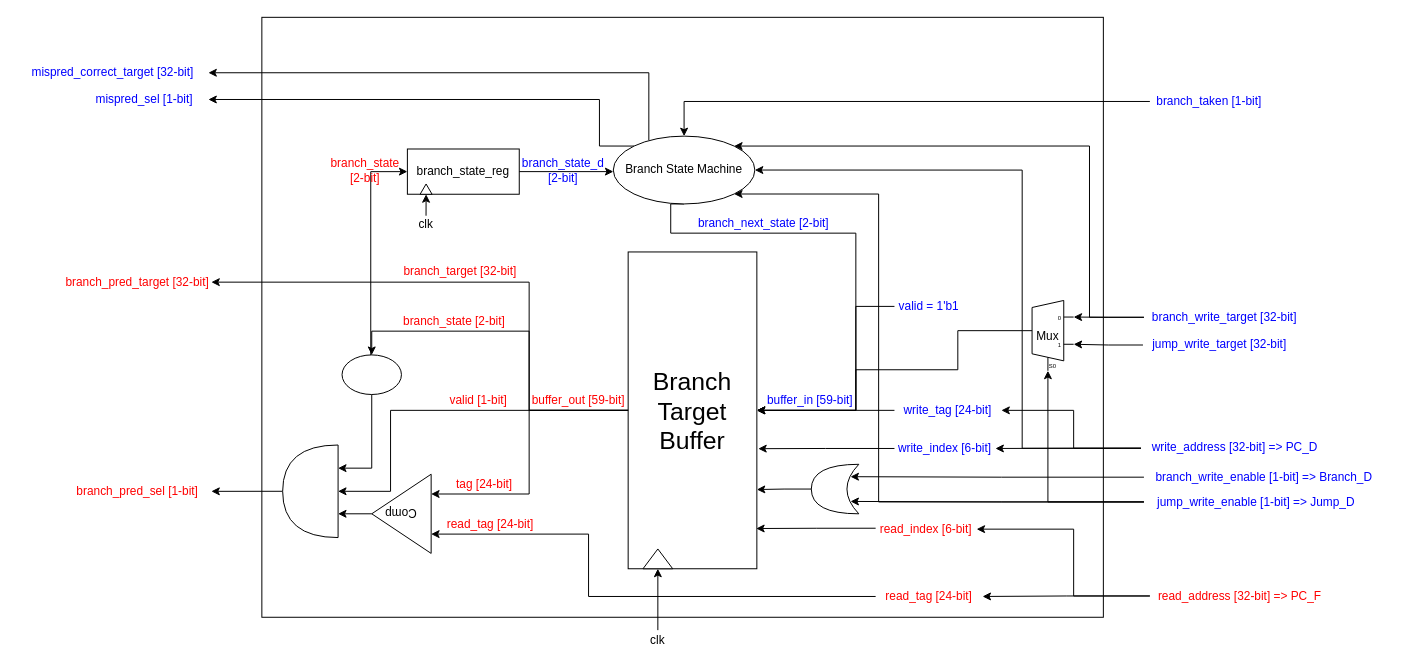
Image size: 1401x667. Some labels were removed from this diagram. Each missing label, with the box of its shape:
Branch Predictor: (261, 16, 1103, 617)
if (Taken): (341, 354, 401, 395)
